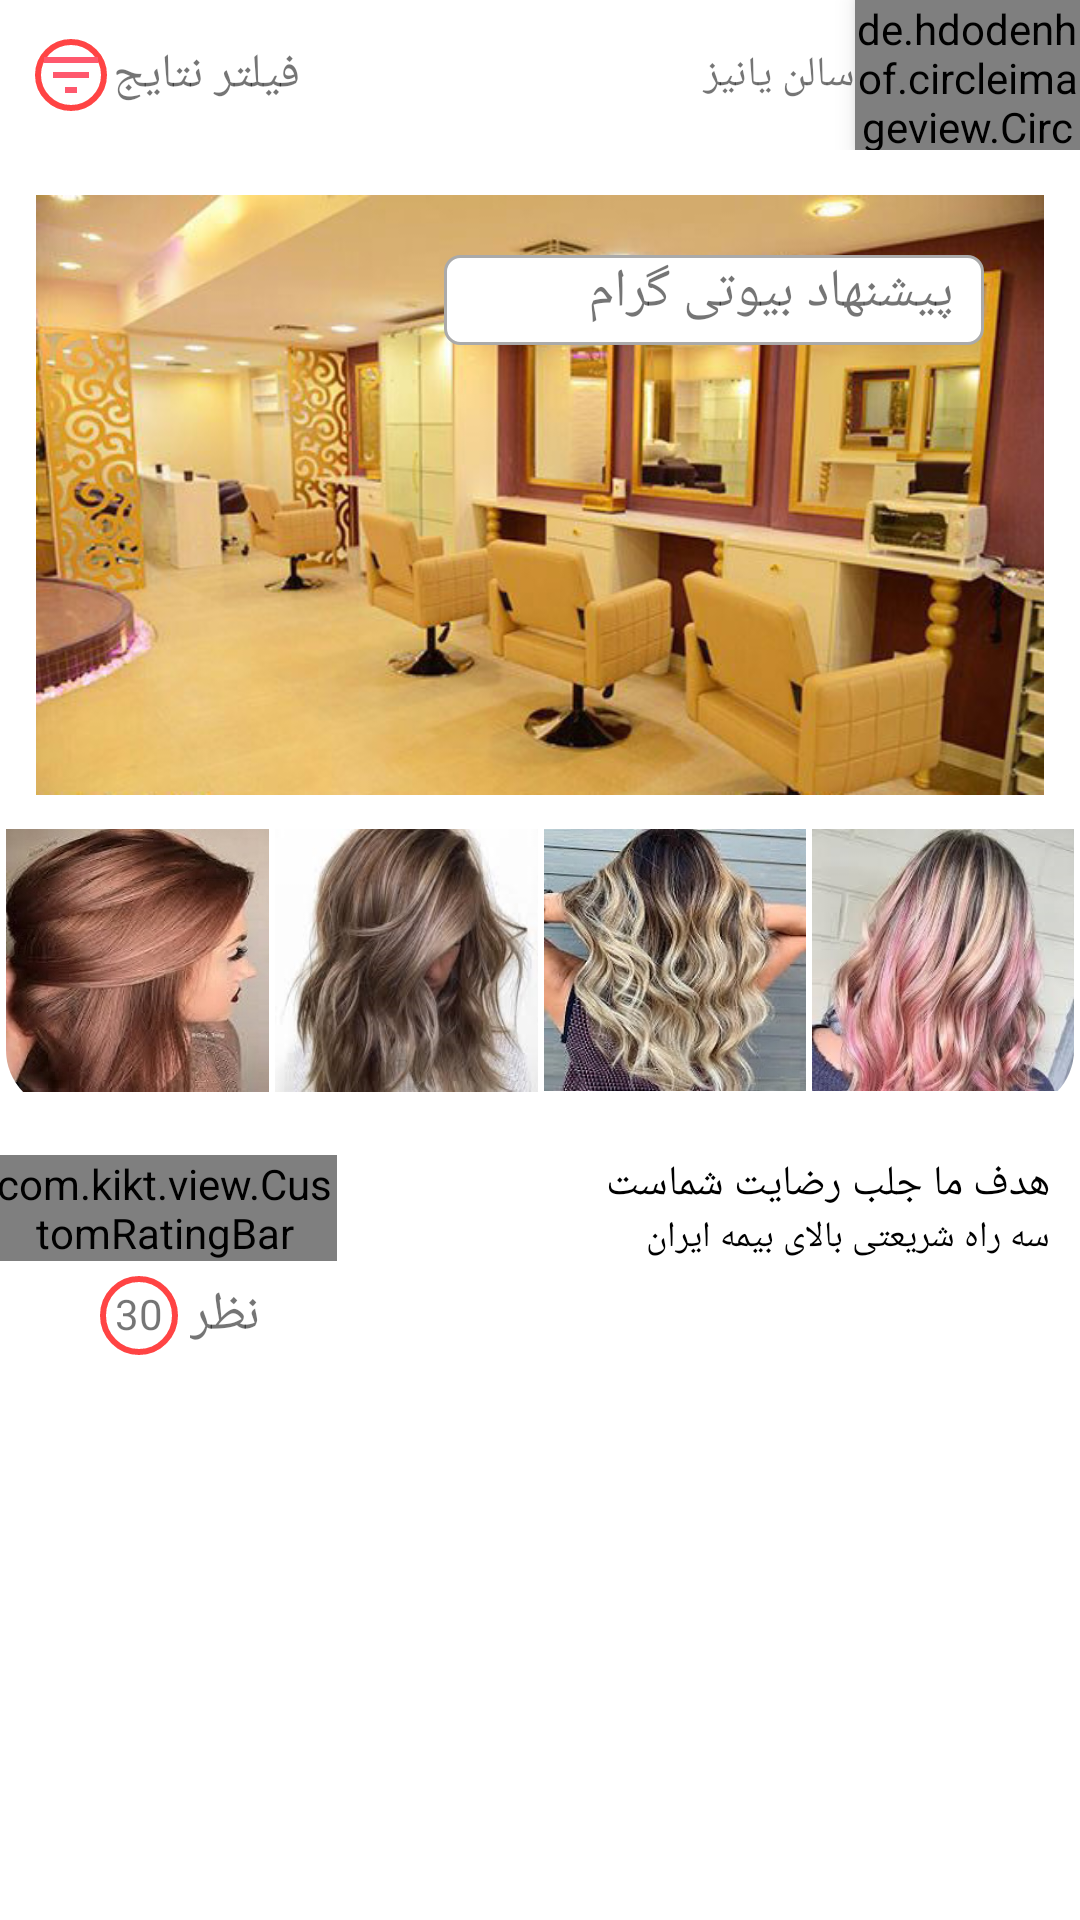

Point at icon controls on the screen. Image size 1080 x 1920, points as (x=x, y=y).
filter list: (x=71, y=75)
